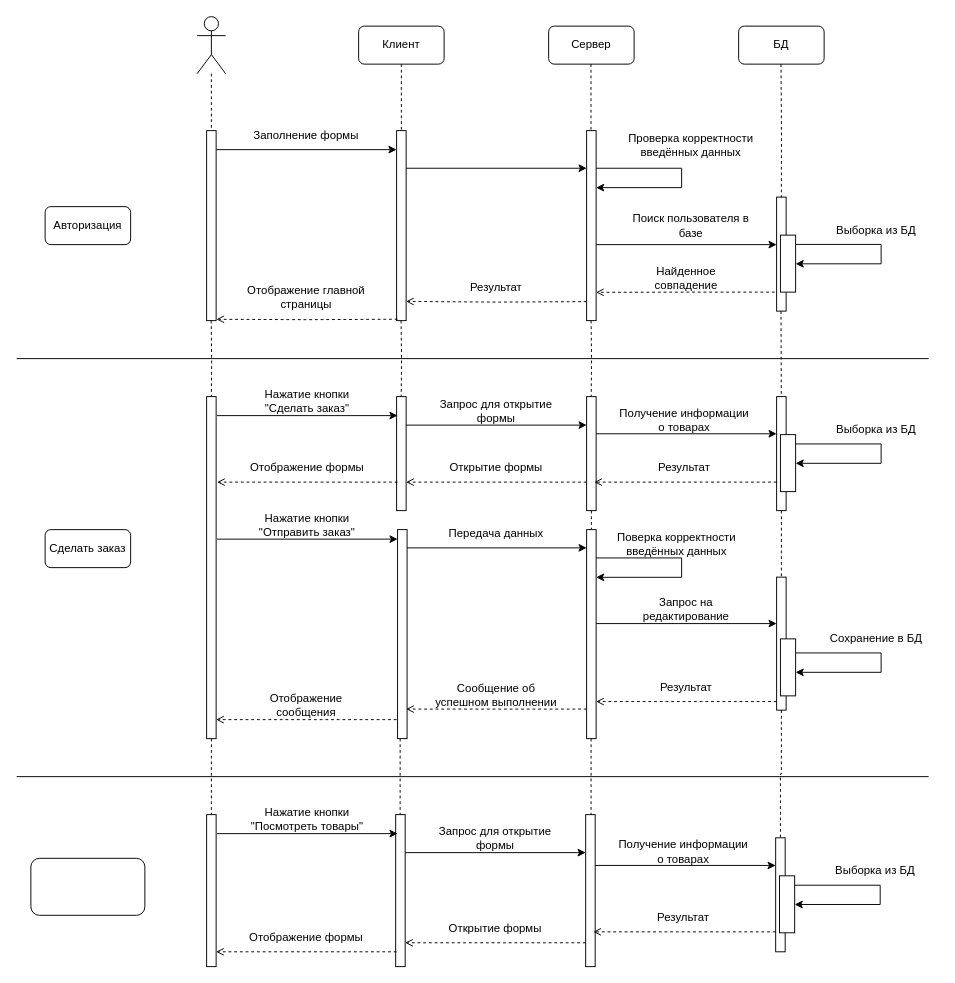
Some shapes in this 955 by 983 pixel diagram are drawn without their labels. The shapes that lost their labels are listed below. From the top down, each one's centre as x and y in pixels, then its label:
point (211, 45): Магазин
point (87, 886): Посмотреть текущие товары на складе
